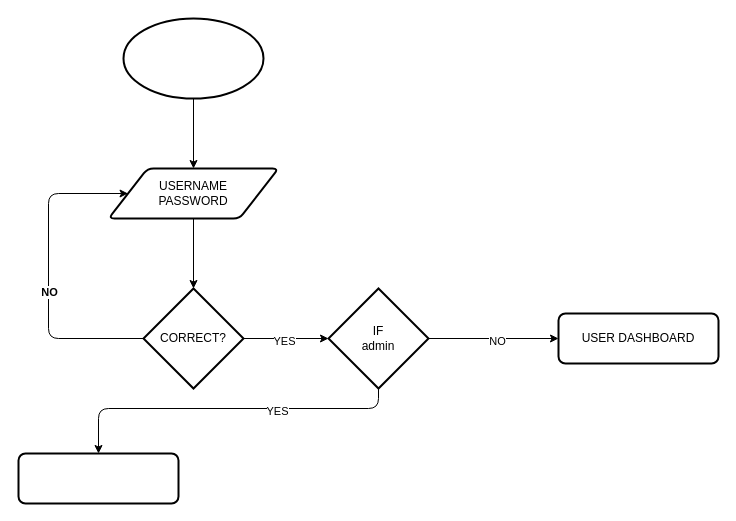
This 736x521 diagram has some shape labels left out. The shapes that lost their labels are listed below. From the top down, each one's box as (x1, y1, x2, y2) in pixels, then its label:
(122, 17, 264, 99): START
(17, 452, 179, 504): ADMIN DASHBOARD
